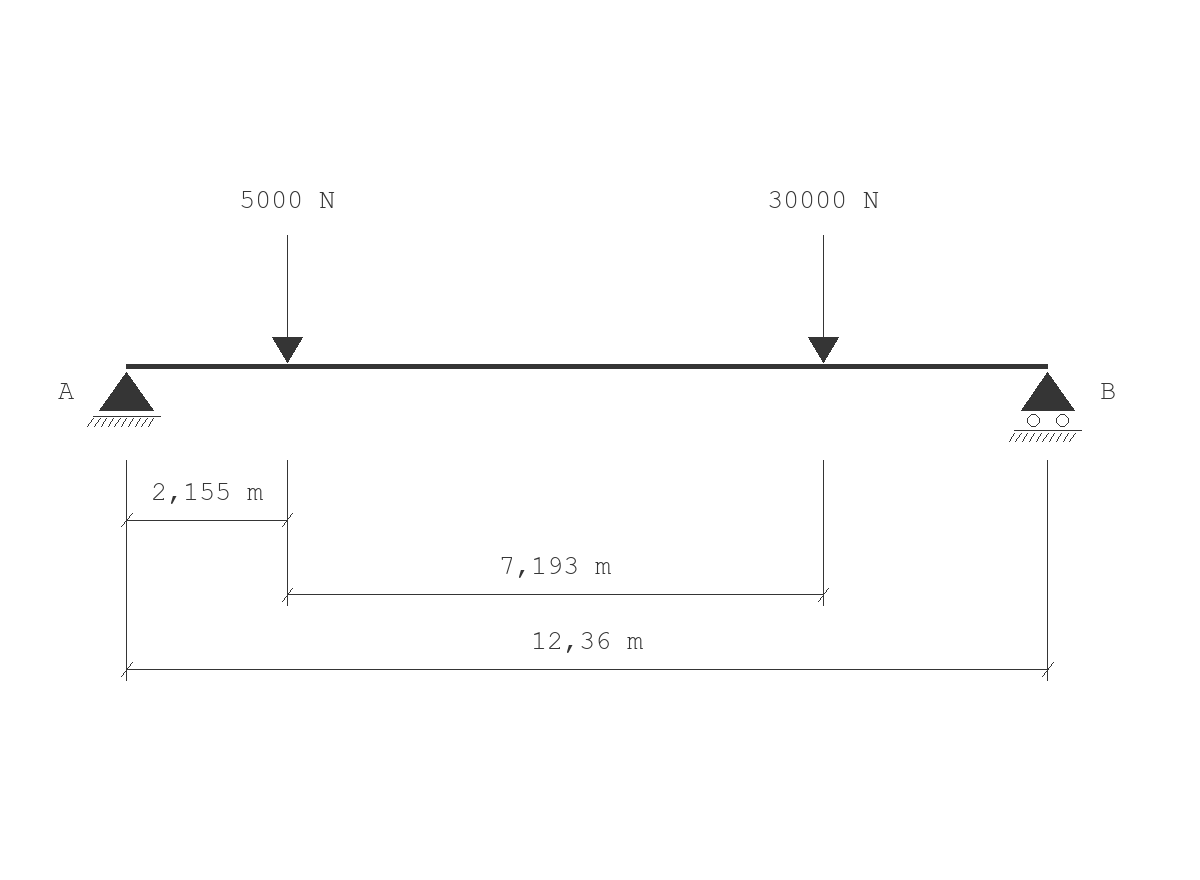pin_support: (87, 372, 161, 427)
point_load: (272, 235, 303, 363), (808, 235, 839, 363)
roller_support: (1009, 372, 1082, 442)
